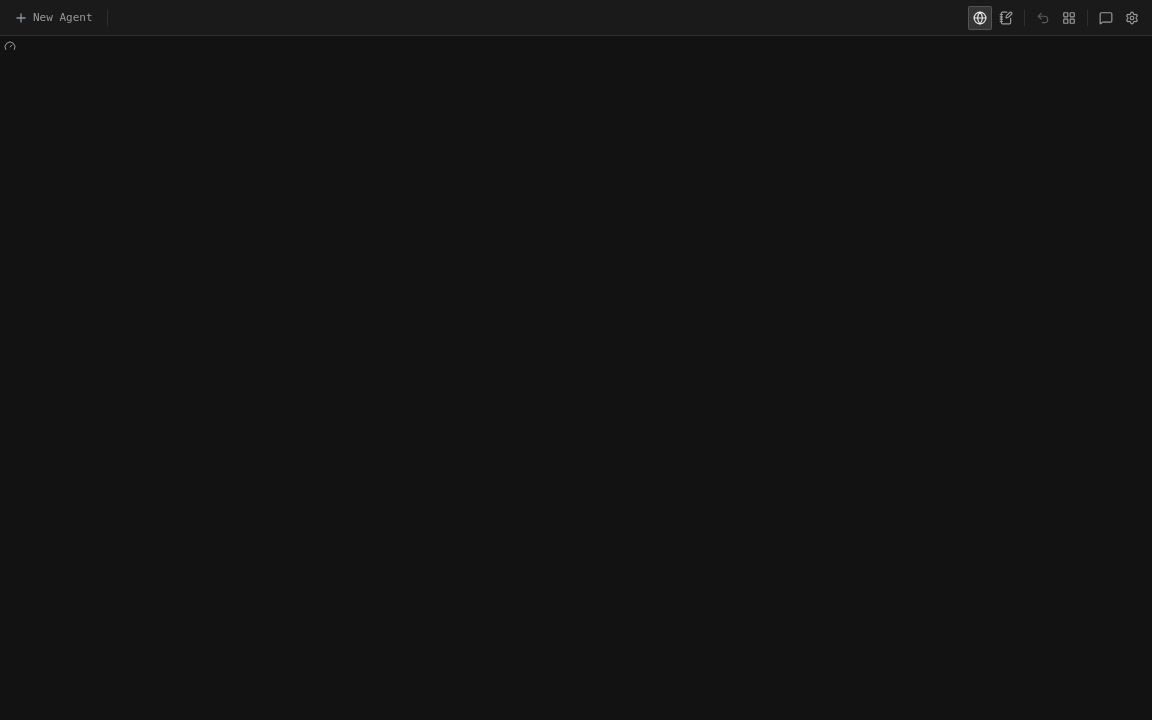
Test case: Header overlay interactions › keeps discovery errors visible in Chat History
Click the button named "Chat history" at (1106, 18), box [1094,6,1118,30]
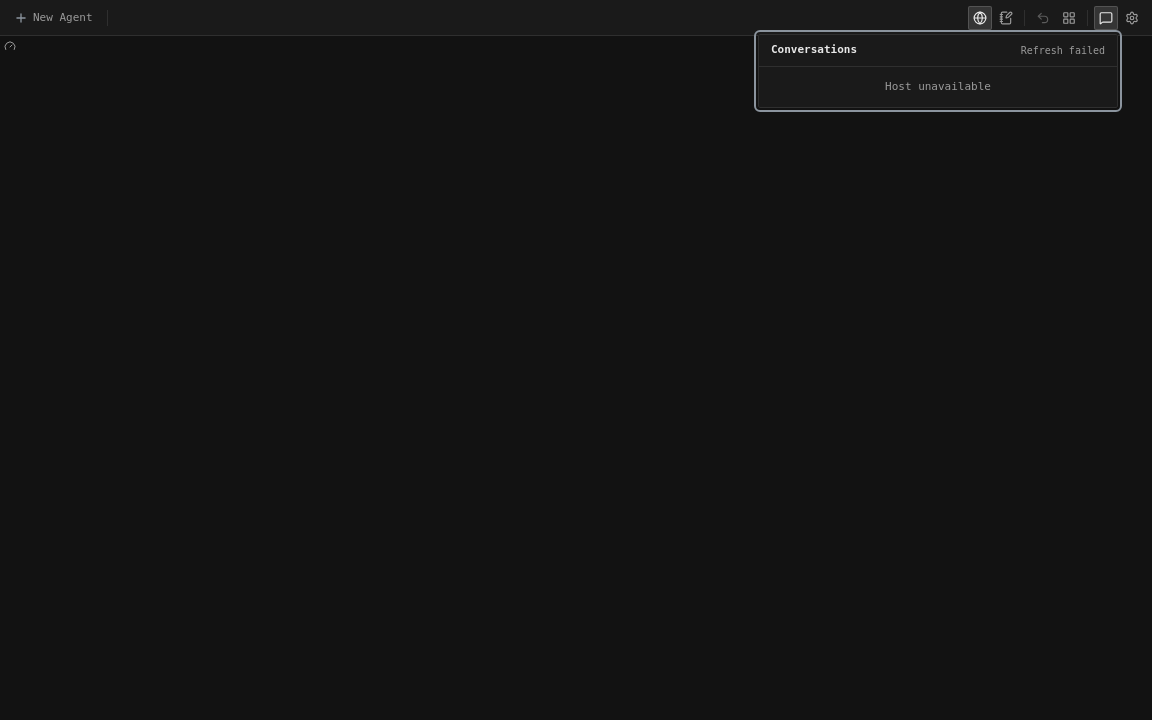
expect the text "Host unavailable" is shown: met, box [885,80,991,92]
